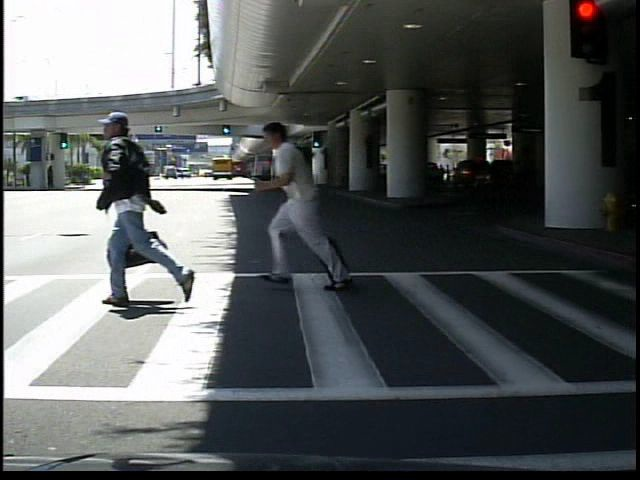person: (98, 113, 186, 311), (274, 115, 344, 293)
